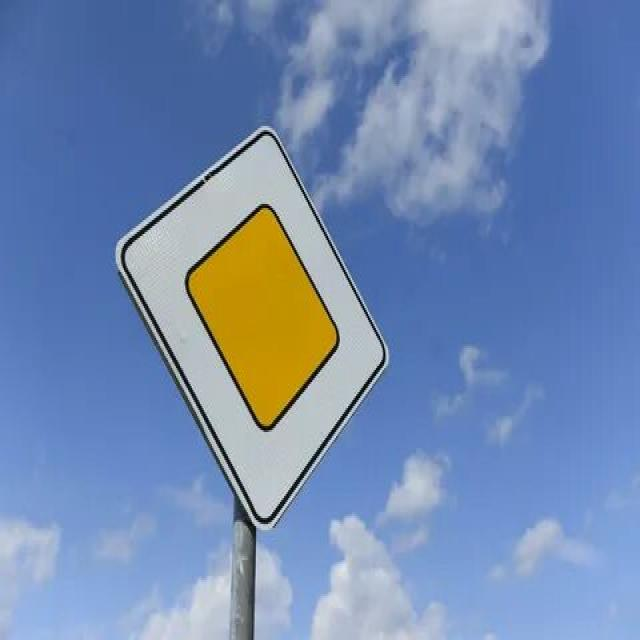signs: (115, 124, 395, 536)
